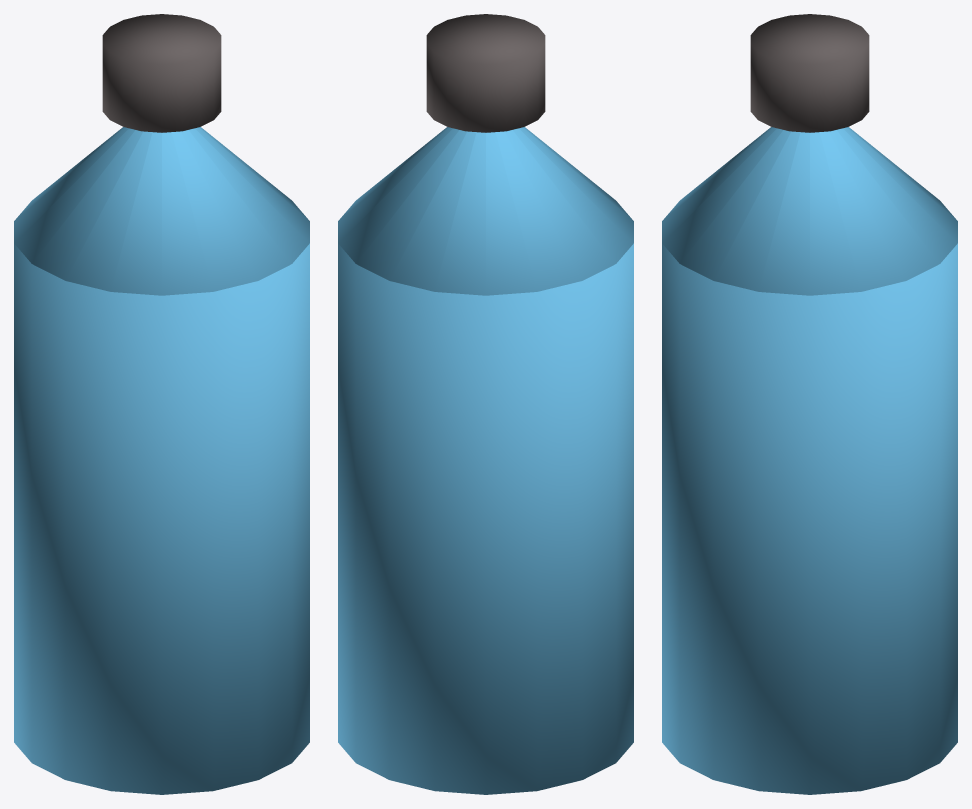
The model's file is water_bottle.glb.
3 views of the same model, side by side, from view 1: azimuth 30°, elevation 25°; view 2: azimuth 150°, elevation 25°; view 3: azimuth 270°, elevation 25° (orthographic).
Visible parts, largest first — view 1: body, neck, cap; view 2: body, neck, cap; view 3: body, neck, cap.
Boxes of the visible parts, <box> form: body: <box>14,243,309,794</box>; neck: <box>14,127,309,295</box>; cap: <box>102,14,221,132</box>; body: <box>338,243,633,794</box>; neck: <box>338,127,633,295</box>; cap: <box>426,14,545,132</box>; body: <box>662,243,957,794</box>; neck: <box>662,127,957,295</box>; cap: <box>750,14,869,132</box>.
Size of the model in its own units: 0.6 by 1.52 by 0.5909.
